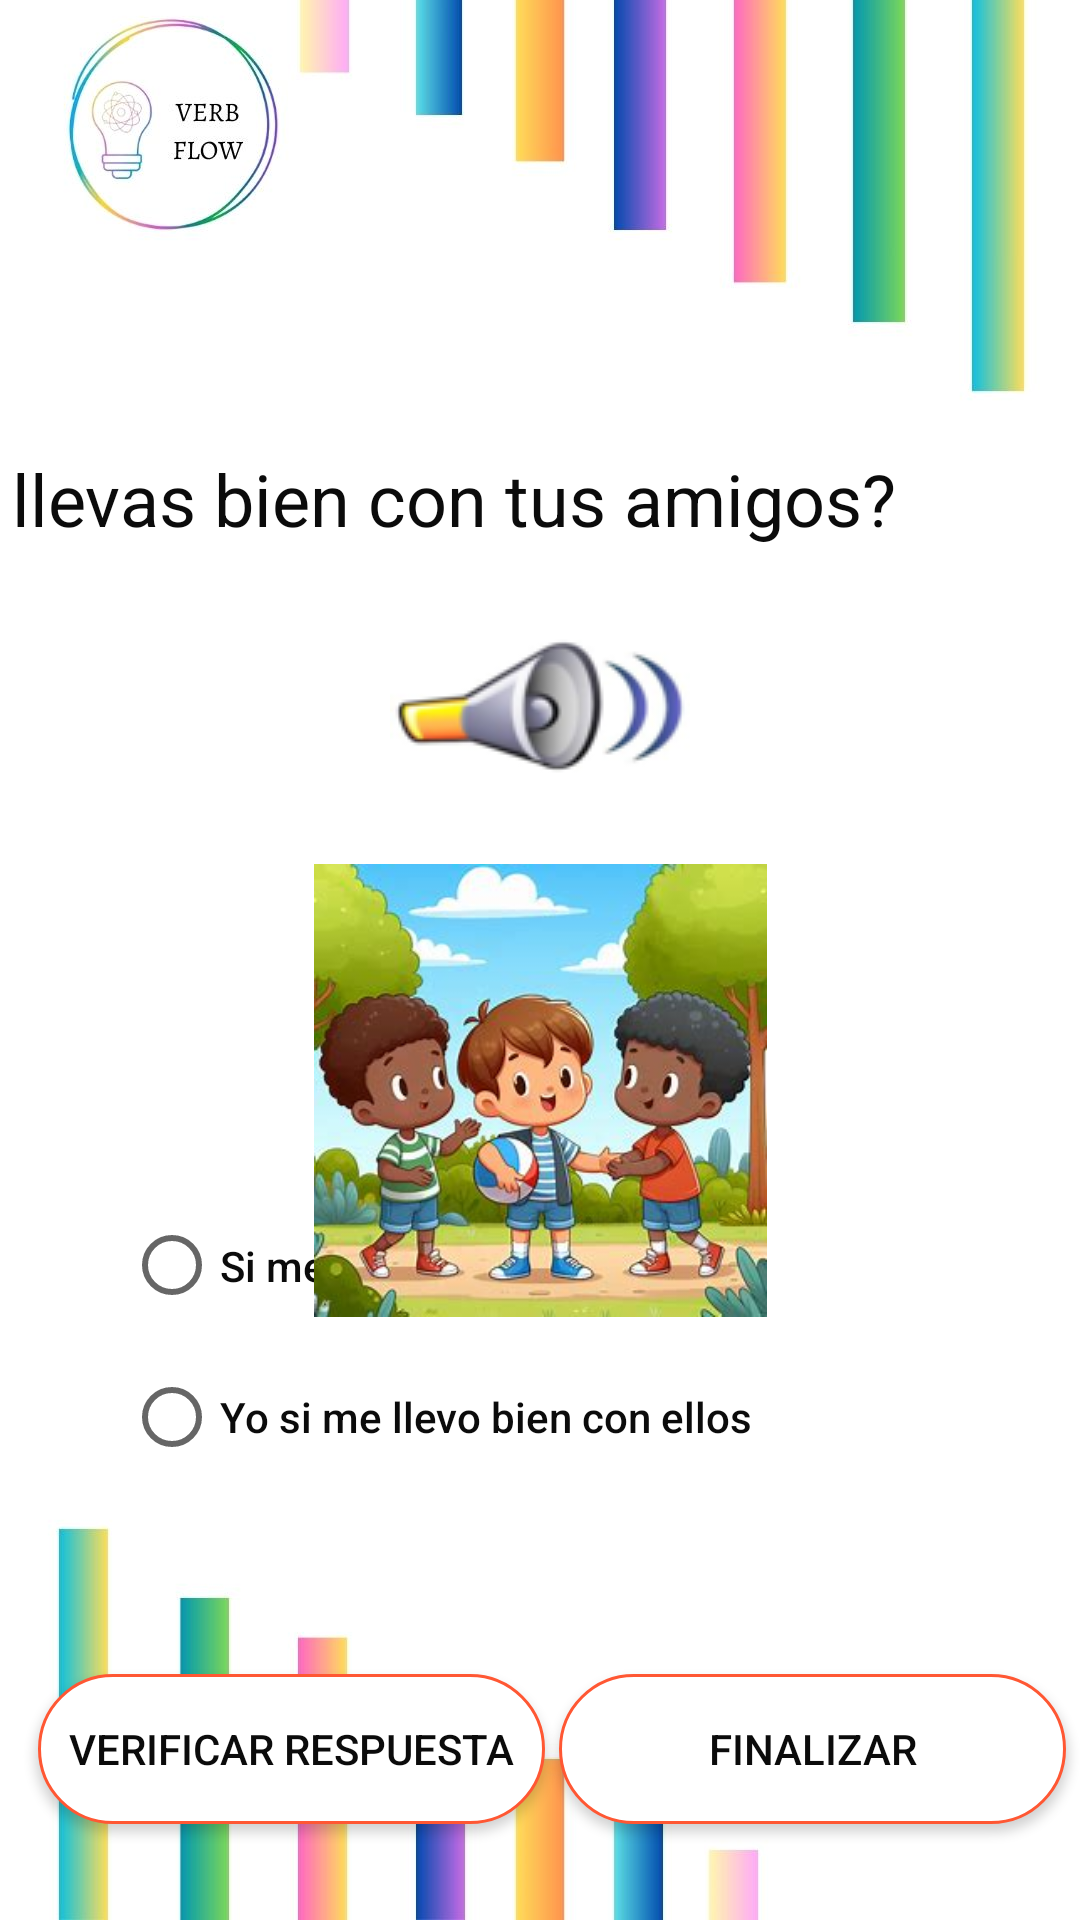

Named icons in this screenshot (1080px×1920px) and their bounding boxes, (x1, y1, x2, y2):
altavoz: (397, 642, 682, 770)
